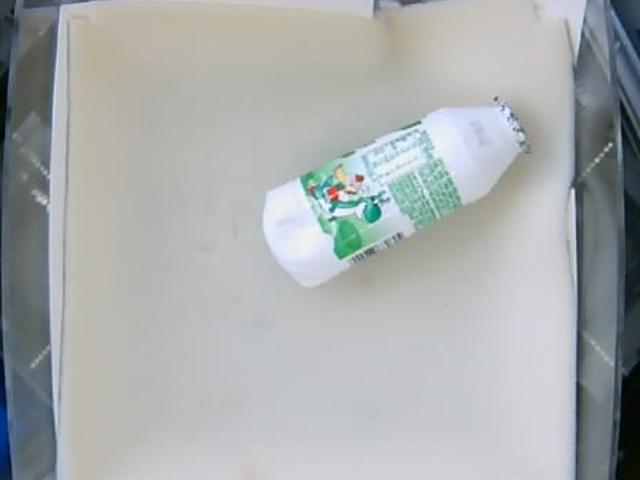Bottle: (262, 95, 533, 289)
